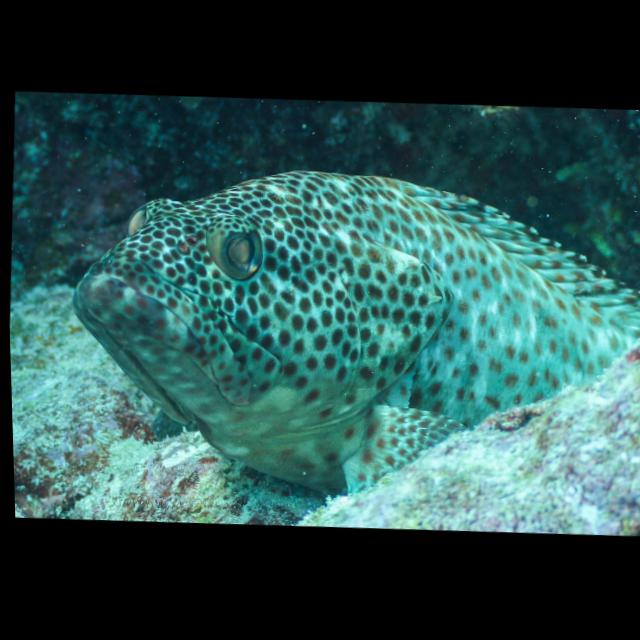Groupers: (63, 147, 640, 513)
